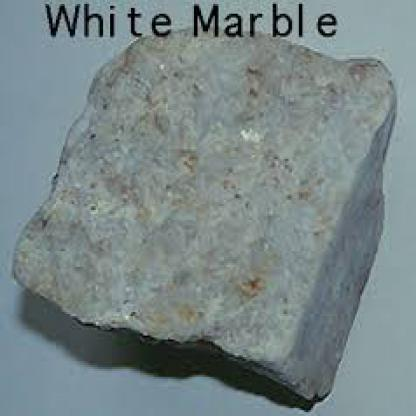Metamorphic_Marble: (10, 24, 390, 406)
